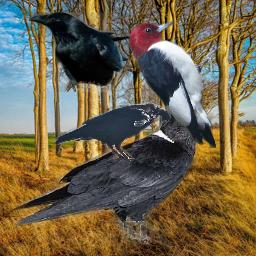Crow: (8, 103, 215, 250), (29, 12, 130, 92), (52, 102, 171, 164)
Woodpecker: (128, 20, 226, 148)
